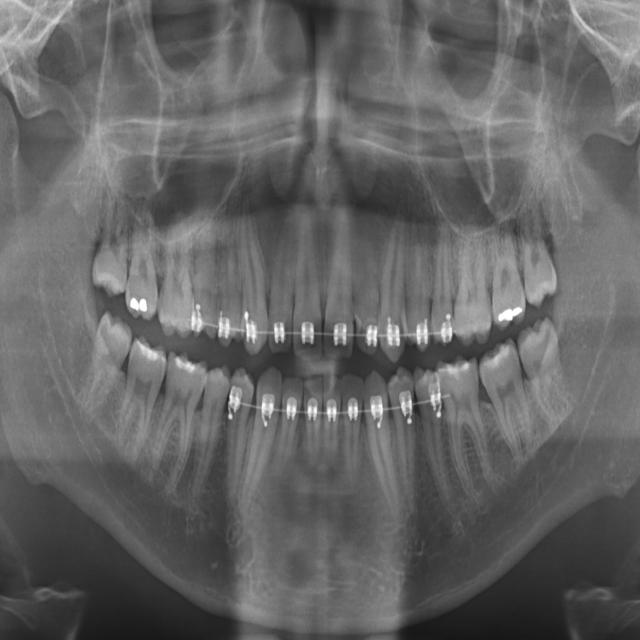AmalgamRestoration: (494, 288, 530, 334), (128, 287, 152, 319)
CompositeResinRestoration: (165, 348, 205, 392), (136, 332, 162, 379)
ImpactedTooth: (518, 310, 568, 423)
